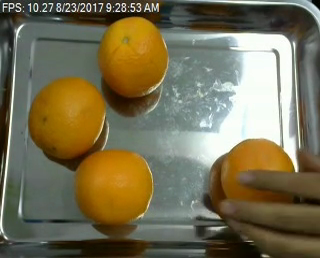Orange: (29, 74, 107, 158), (72, 149, 153, 223), (99, 15, 169, 97)
